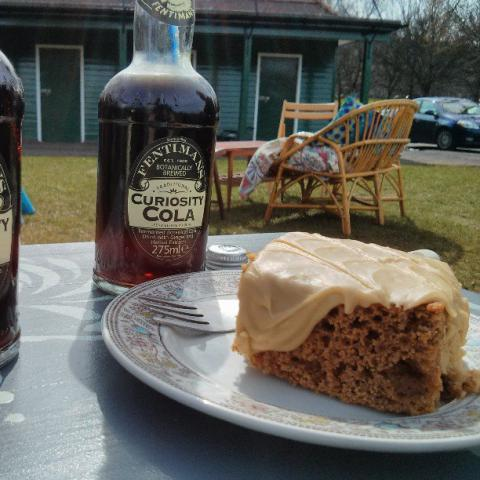car: (406, 96, 479, 151)
